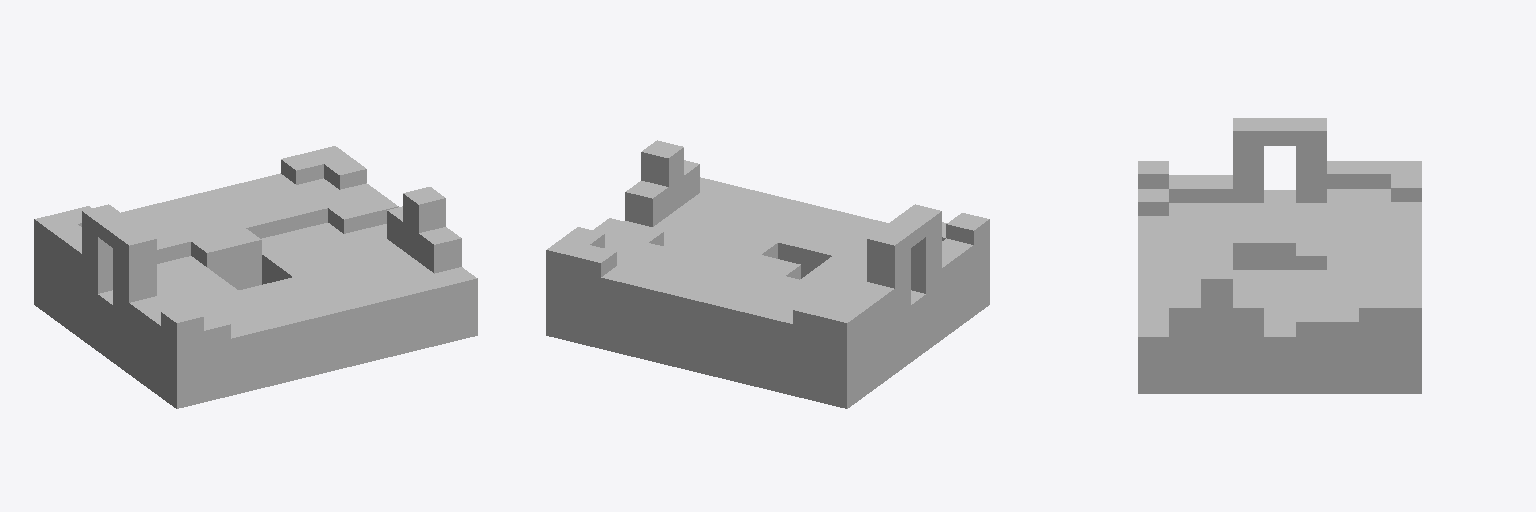
File: SmallTestMap.obj
3 renders of one model, left to right at view 1: azimuth 30°, elevation 25°; view 2: azimuth 150°, elevation 25°; view 3: azimuth 270°, elevation 25°, orthographic.
Parts seen in each view (by area): view 1: Cube; view 2: Cube; view 3: Cube.
Part boxes in pixels (left/top/right/bottom): Cube: left=34, top=146, right=477, bottom=408; Cube: left=546, top=140, right=989, bottom=408; Cube: left=1138, top=118, right=1421, bottom=393.
Bounding box in the file's own units: 22 × 9 × 18.